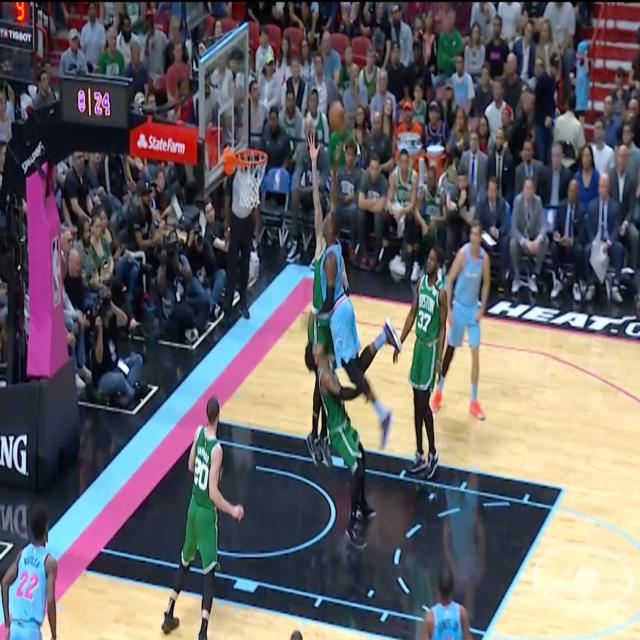Foul: (309, 266, 360, 468)
